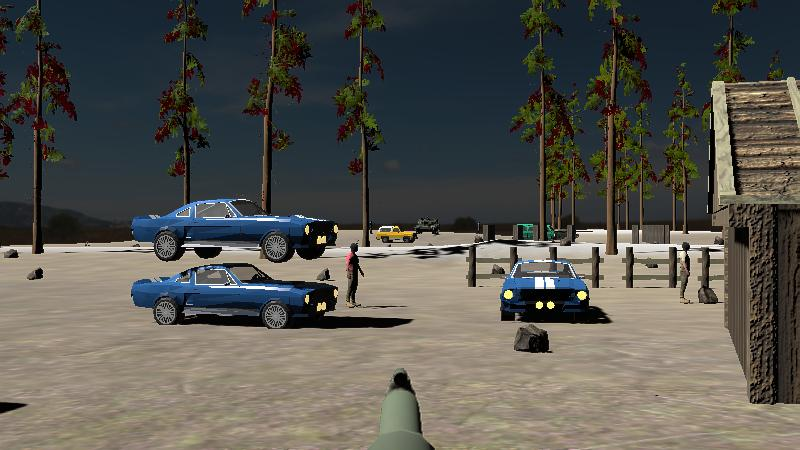Human: (344, 239, 365, 309), (678, 239, 693, 304)
car: (129, 261, 339, 332), (128, 193, 339, 262), (499, 257, 592, 322), (374, 223, 420, 245), (511, 221, 557, 243)
